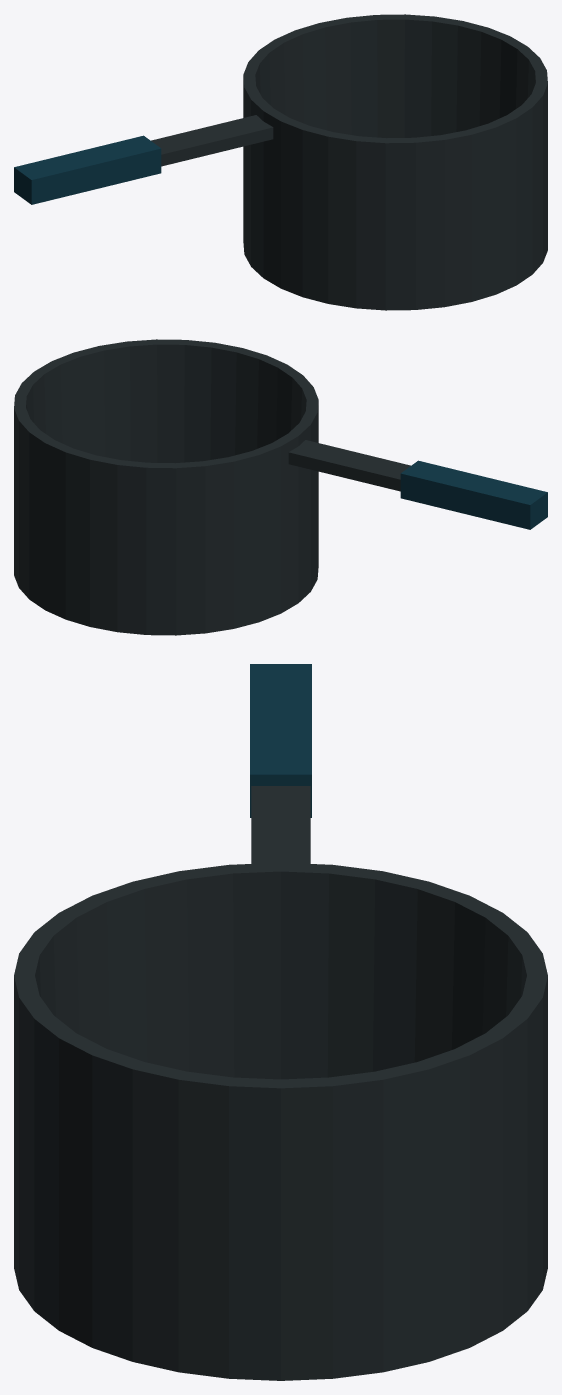
The model's file is PotV1.fbx.
The picture shows the model from 3 angles, top to bottom: view 1: azimuth 30°, elevation 25°; view 2: azimuth 150°, elevation 25°; view 3: azimuth 270°, elevation 25°; orthographic projection. The views are drawn at different scales.
Parts seen in each view (by area): view 1: Cylinder.001; view 2: Cylinder.001; view 3: Cylinder.001.
Part boxes in pixels (left/top/right/bottom): Cylinder.001: left=14, top=14, right=547, bottom=310; Cylinder.001: left=14, top=339, right=547, bottom=635; Cylinder.001: left=14, top=664, right=547, bottom=1380.
Size of the model in its own units: 397 by 759 by 240.
